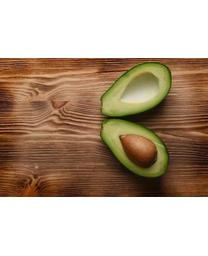avocado: (100, 118, 170, 179), (101, 62, 172, 116)
